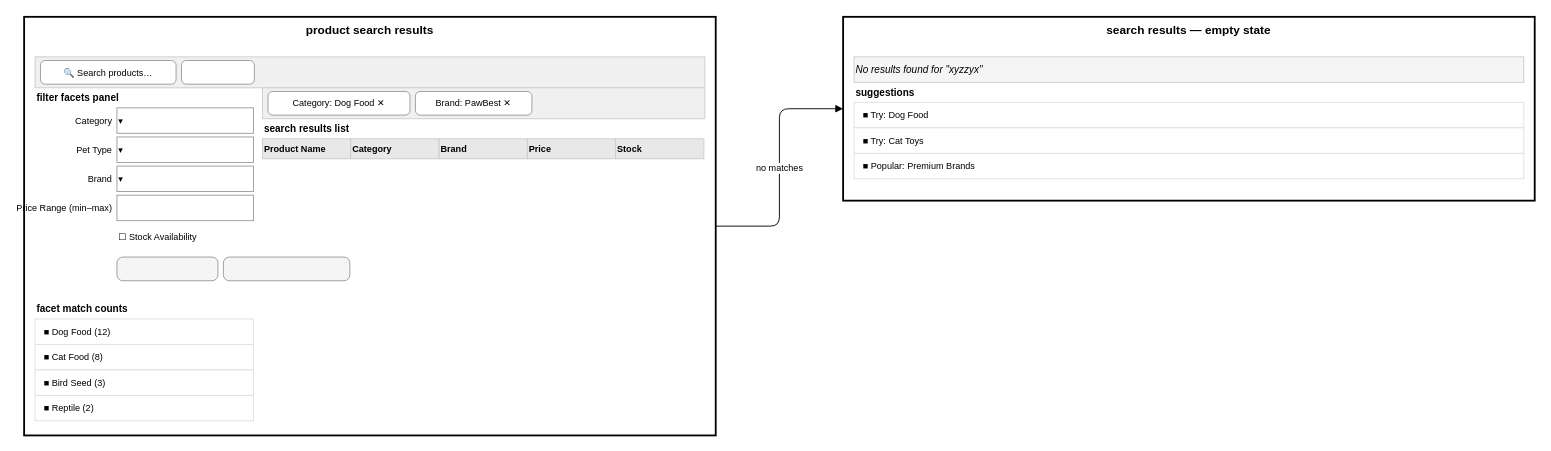
Some shapes in this 1551 by 451 pixel diagram are drawn without their labels. The shapes that lost their labels are listed below. From the top down, each one's centre as x and y in pixels, then its label:
At (x=217, y=72): "Submit".
At (x=167, y=268): "Apply Filters".
At (x=286, y=268): "Clear All Filters".
